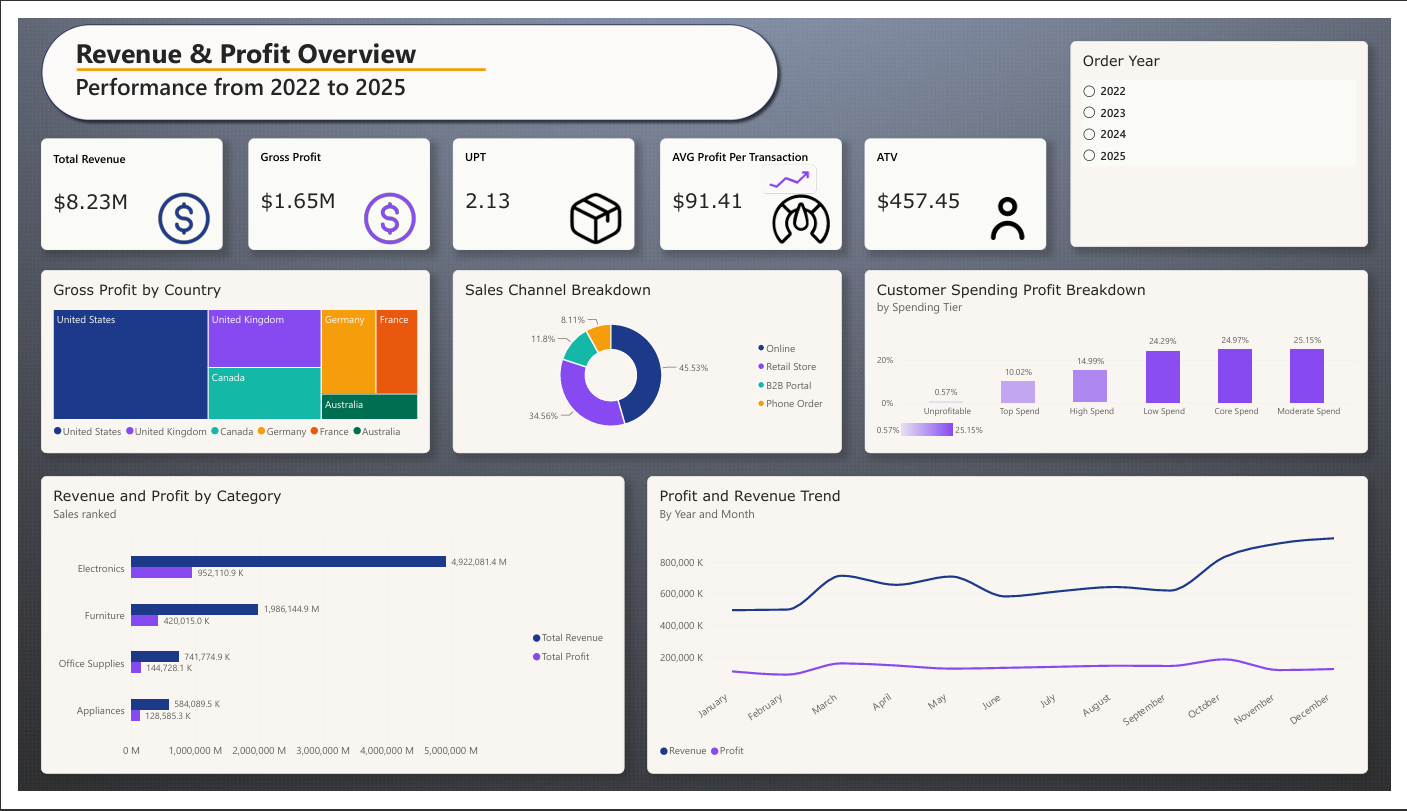

The dashboard page shown, as its layout file describes it:
{"tool":"powerbi","page":{"name":"sales-transactions-dashboard","canvas":[1920,1080],"ordinal":0},"visuals":[{"type":"cardVisual","fields":{"Data":["sales-transactions sales_transactions_staging3.Total Revenue"]},"box":[32,168,254,156],"z":0},{"type":"cardVisual","fields":{"Data":["sales-transactions sales_transactions_staging3.Total Profit"]},"box":[322,168,254,156],"z":1000},{"type":"cardVisual","fields":{"Data":["sales-transactions sales_transactions_staging3.UPT"]},"box":[608,168,254,156],"z":2000},{"type":"cardVisual","fields":{"Data":["sales-transactions sales_transactions_staging3.AVG Profit Per Transaction"]},"box":[898,168,254,156],"z":3000},{"type":"cardVisual","fields":{"Data":["sales-transactions sales_transactions_staging3.ATV"]},"box":[1184,168,254,156],"z":4000},{"type":"clusteredBarChart","title":"Revenue and Profit by Category","fields":{"Category":["sales-transactions sales_transactions_staging3.Product_Category"],"Y":["sales-transactions sales_transactions_staging3.Total Revenue","sales-transactions sales_transactions_staging3.Total Profit"]},"box":[32,640,816,416],"z":5000},{"type":"lineChart","title":"Profit and Revenue Trend","fields":{"Category":["sales-transactions sales_transactions_staging3.Order_Date.Variation.Date Hierarchy.Year","sales-transactions sales_transactions_staging3.Order_Date.Variation.Date Hierarchy.Month"],"Y":["sales-transactions sales_transactions_staging3.Total Revenue Formatted","sales-transactions sales_transactions_staging3.Total Profit Formatted"]},"box":[880,640,1008,416],"z":6000},{"type":"donutChart","title":"Sales Channel Breakdown","fields":{"Category":["sales-transactions sales_transactions_staging3.Sales_Channel"],"Y":["CountNonNull(sales-transactions sales_transactions_staging3.Sales_Channel)"]},"box":[608,352,544,256],"z":7000},{"type":"treemap","title":"Gross Profit by Country","fields":{"Group":["sales-transactions sales_transactions_staging3.Country"],"Values":["sales-transactions sales_transactions_staging3.Total Profit Formatted"]},"box":[32,352,544,256],"z":8000},{"type":"clusteredColumnChart","title":"Customer Spending Profit Breakdown","fields":{"Category":["sales-transactions sales_transactions_staging3.Customer Spending Tier"],"Y":["sales-transactions sales_transactions_staging3.Customer Total %"]},"box":[1184,352,704,256],"z":10000},{"type":"shape","box":[24,0,1048,152],"z":11000},{"type":"listSlicer","fields":{"Values":["sales-transactions sales_transactions_staging3.Order_Year"]},"box":[1472,32,416,288],"z":12000},{"type":"shape","box":[80,32,576,80],"z":13000},{"type":"textbox","box":[80,16,560,128],"z":14000},{"type":"image","box":[1344,240,80,80],"z":15000},{"type":"image","box":[768,240,80,80],"z":16000},{"type":"image","box":[192,240,80,80],"z":17000},{"type":"image","box":[480,240,80,80],"z":18000},{"type":"image","box":[1008,172,160,176],"z":20000}]}

Visuals, with their boxes in screenshot pixels (x1, y1, x2, y2), scaled from the page's 1920x1080 canvas onto the 1407x811 screenshot:
cardVisual - sales-transactions sales_transactions_staging3.Total Revenue: bbox=[23, 126, 210, 243]
cardVisual - sales-transactions sales_transactions_staging3.Total Profit: bbox=[236, 126, 422, 243]
cardVisual - sales-transactions sales_transactions_staging3.UPT: bbox=[446, 126, 632, 243]
cardVisual - sales-transactions sales_transactions_staging3.AVG Profit Per Transaction: bbox=[658, 126, 844, 243]
cardVisual - sales-transactions sales_transactions_staging3.ATV: bbox=[868, 126, 1054, 243]
"Revenue and Profit by Category" clusteredBarChart: bbox=[23, 481, 621, 793]
"Profit and Revenue Trend" lineChart: bbox=[645, 481, 1384, 793]
"Sales Channel Breakdown" donutChart: bbox=[446, 264, 844, 457]
"Gross Profit by Country" treemap: bbox=[23, 264, 422, 457]
"Customer Spending Profit Breakdown" clusteredColumnChart: bbox=[868, 264, 1384, 457]
shape: bbox=[18, 0, 786, 114]
listSlicer - sales-transactions sales_transactions_staging3.Order_Year: bbox=[1079, 24, 1384, 240]
shape: bbox=[59, 24, 481, 84]
textbox: bbox=[59, 12, 469, 108]
image: bbox=[985, 180, 1044, 240]
image: bbox=[563, 180, 621, 240]
image: bbox=[141, 180, 199, 240]
image: bbox=[352, 180, 410, 240]
image: bbox=[739, 129, 856, 261]
